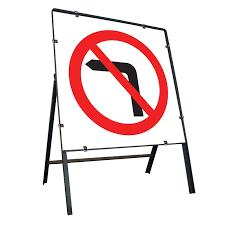no_left_turn: (67, 29, 167, 136)
